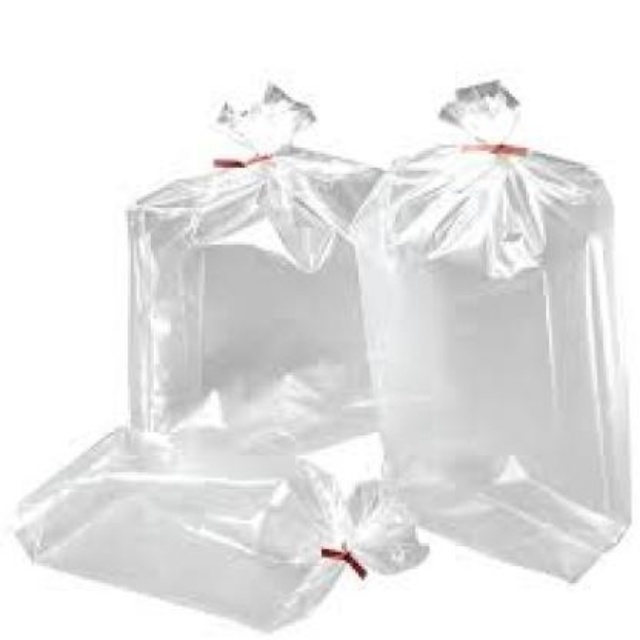trash: (17, 82, 629, 628), (355, 80, 629, 578)
